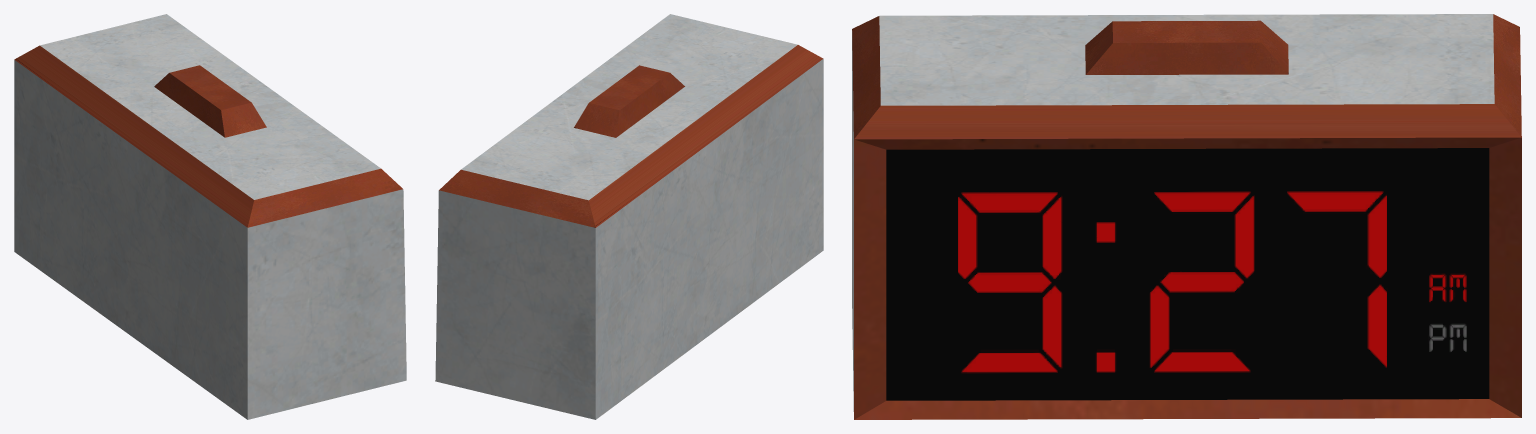
File: Alarm_Clock_Digital.fbx
3 views of the same model, side by side, from view 1: azimuth 30°, elevation 25°; view 2: azimuth 150°, elevation 25°; view 3: azimuth 270°, elevation 25° (orthographic). The views are drawn at different scales.
Parts seen in each view (by area): view 1: Digital_Alarm_Clock; view 2: Digital_Alarm_Clock; view 3: Digital_Alarm_Clock.
Boxes of the visible parts, left/top/right/bottom form: Digital_Alarm_Clock: left=14, top=14, right=406, bottom=419; Digital_Alarm_Clock: left=435, top=14, right=823, bottom=419; Digital_Alarm_Clock: left=852, top=14, right=1521, bottom=419.
Bounding box in the file's own units: 14.59 × 19.59 × 35.96.
